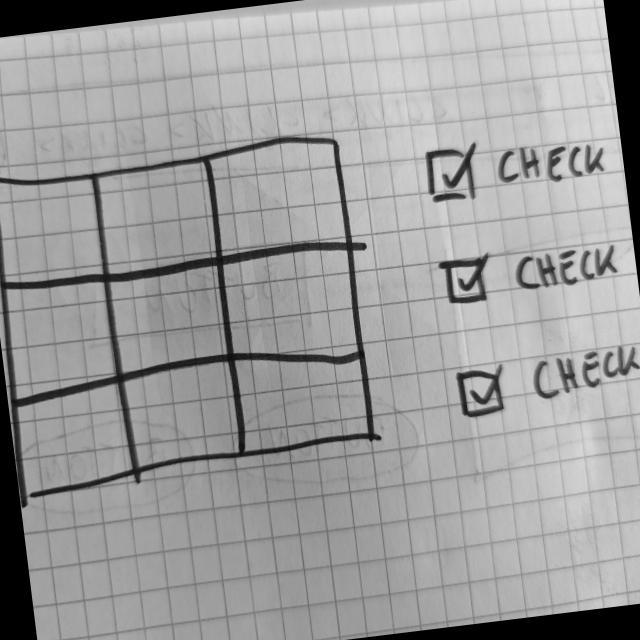checkbox: (422, 123, 616, 207), (454, 341, 640, 422), (438, 232, 625, 312)
table: (1, 128, 385, 505)
